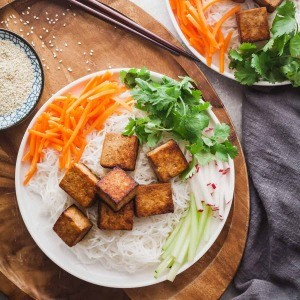tofu_brain food: (53, 128, 190, 246), (226, 5, 278, 46)
